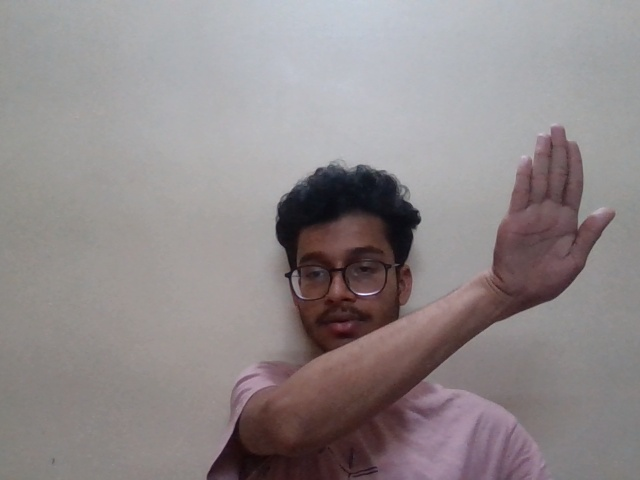hello: (486, 122, 623, 323)
